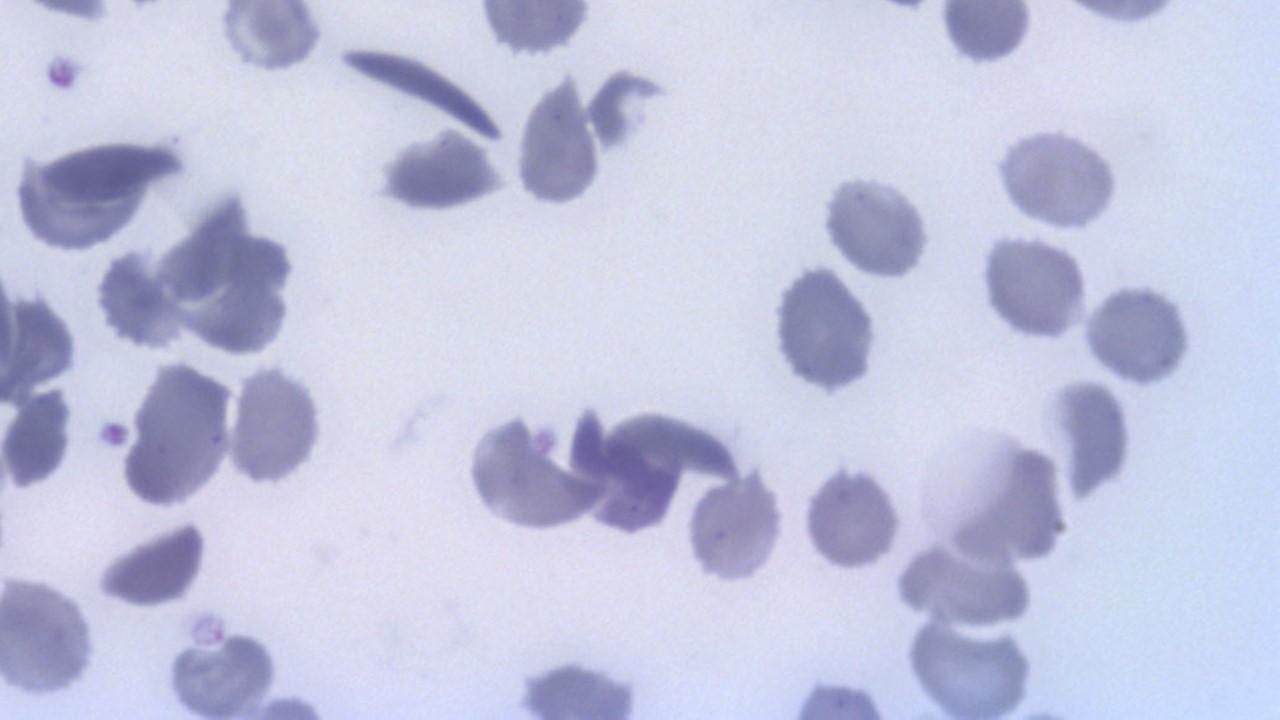Platelets: (368, 125, 510, 219), (90, 519, 215, 611), (1049, 377, 1141, 502), (586, 68, 668, 156), (932, 4, 1038, 69), (38, 44, 93, 97), (19, 0, 116, 26), (93, 415, 132, 456), (868, 0, 936, 19)
RBC: (116, 354, 238, 511), (1, 569, 105, 705), (223, 358, 330, 490), (1078, 279, 1200, 389), (976, 232, 1092, 345), (683, 466, 789, 588), (798, 458, 908, 574), (1, 385, 80, 494)
WBC: (94, 178, 315, 365), (7, 130, 188, 255), (764, 250, 894, 402), (116, 357, 238, 512), (221, 354, 334, 496), (1075, 271, 1205, 394), (990, 121, 1128, 234), (684, 458, 792, 590), (823, 164, 942, 281), (974, 230, 1096, 344), (1, 569, 103, 704), (510, 66, 603, 210), (797, 456, 908, 574), (211, 2, 333, 79), (0, 382, 78, 495), (470, 1, 602, 60), (932, 2, 1042, 70)
